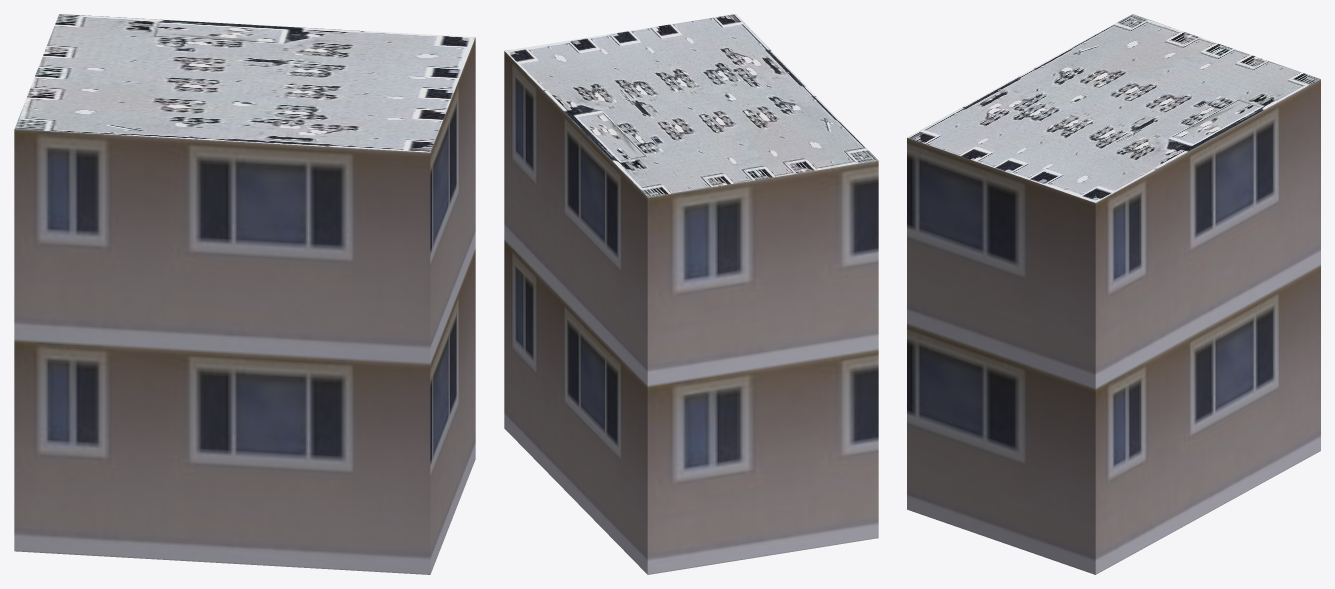
File: ResTex__4882.fbx
3 views of the same model, side by side, from view 1: azimuth 30°, elevation 25°; view 2: azimuth 150°, elevation 25°; view 3: azimuth 270°, elevation 25° (orthographic). The views are drawn at different scales.
Parts seen in each view (by area): view 1: CityEngineMaterial_21_m, CityEngineMaterial_8_m; view 2: CityEngineMaterial_21_m, CityEngineMaterial_8_m; view 3: CityEngineMaterial_21_m, CityEngineMaterial_8_m.
Part boxes in pixels (bbox=[...]): CityEngineMaterial_21_m: bbox=[14, 37, 475, 574]; CityEngineMaterial_8_m: bbox=[14, 14, 475, 152]; CityEngineMaterial_21_m: bbox=[504, 51, 878, 574]; CityEngineMaterial_8_m: bbox=[504, 14, 878, 197]; CityEngineMaterial_21_m: bbox=[907, 79, 1320, 574]; CityEngineMaterial_8_m: bbox=[907, 14, 1320, 202].
Size of the model in its own units: 6.54 by 6 by 6.05.
2 materials, 2 textured.
